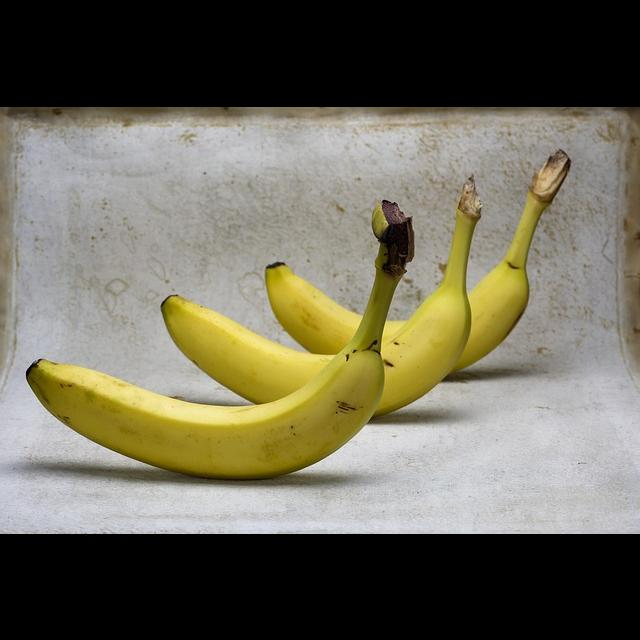apple: (21, 340, 441, 492), (142, 269, 487, 422), (265, 241, 552, 390)
